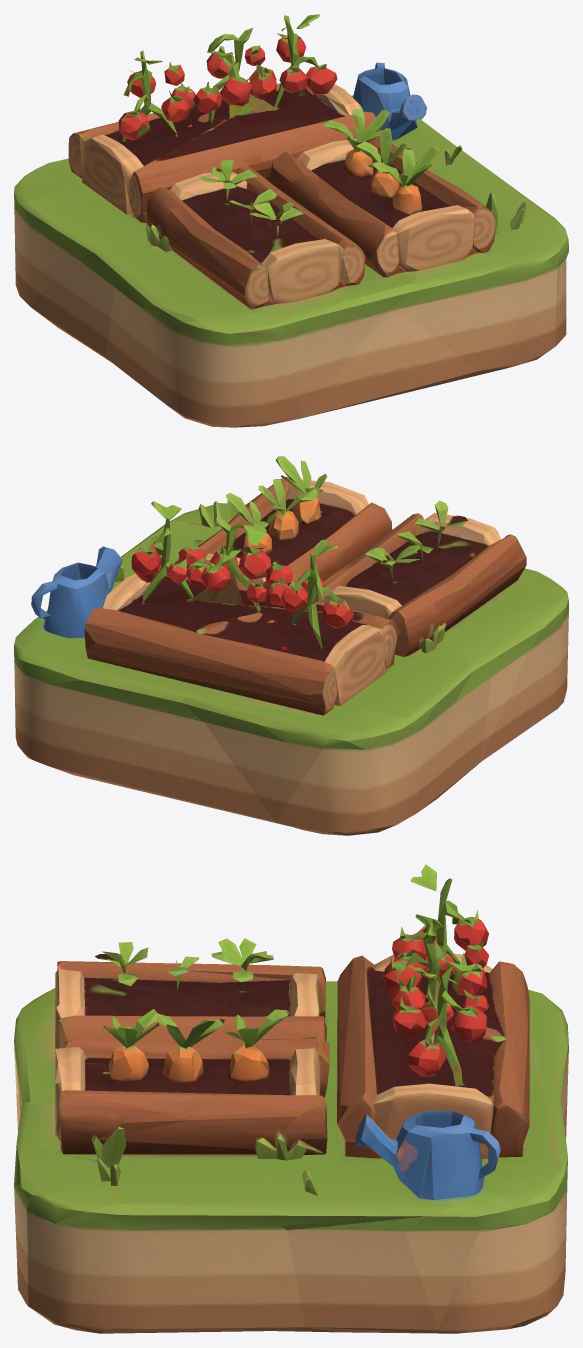
The model's file is b_garden.fbx.
3 views of the same model, one above another, from view 1: azimuth 30°, elevation 25°; view 2: azimuth 150°, elevation 25°; view 3: azimuth 270°, elevation 25° (orthographic). The views are drawn at different scales.
Parts seen in each view (by area): view 1: Mesh_0; view 2: Mesh_0; view 3: Mesh_0.
Boxes of the visible parts, x1,y1,x2,y2 form: Mesh_0: (14,14,568,427); Mesh_0: (14,456,568,835); Mesh_0: (14,864,568,1333).
Size of the model in its own units: 1.87 by 1.11 by 1.87.
Materials: 1 (1 with a texture image).
